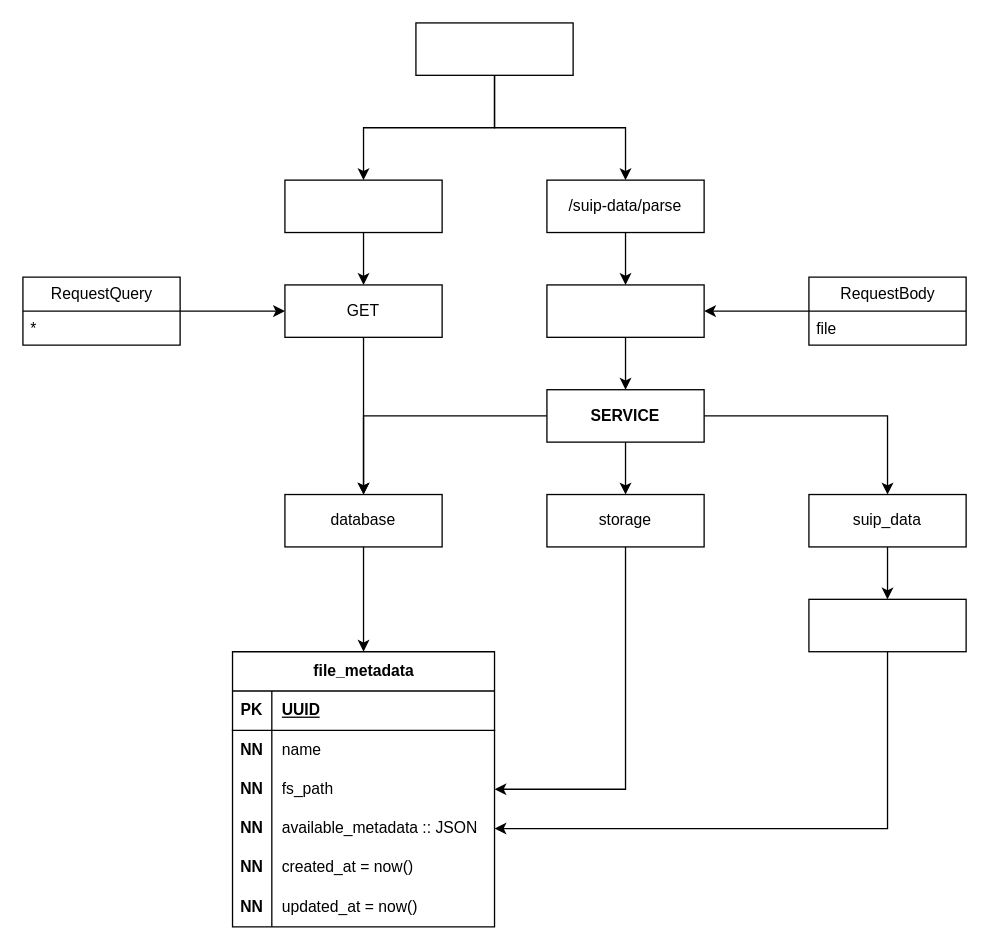
Some shapes in this 989 by 950 pixel diagram are drawn without their labels. Each missing label, with the centre of its shape:
/suip-data: pixel 363 206
POST: pixel 625 310
REST-API: pixel 494 48
SUIP.BIZ: pixel 887 625
